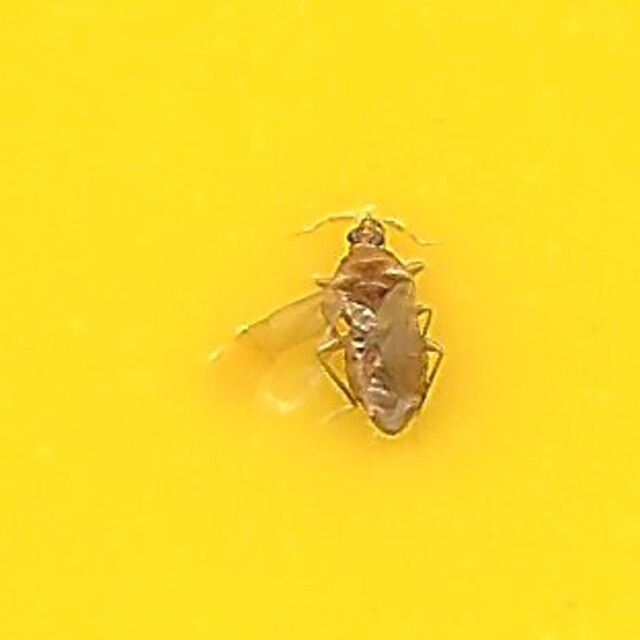Hemiptera: (205, 204, 435, 436)
